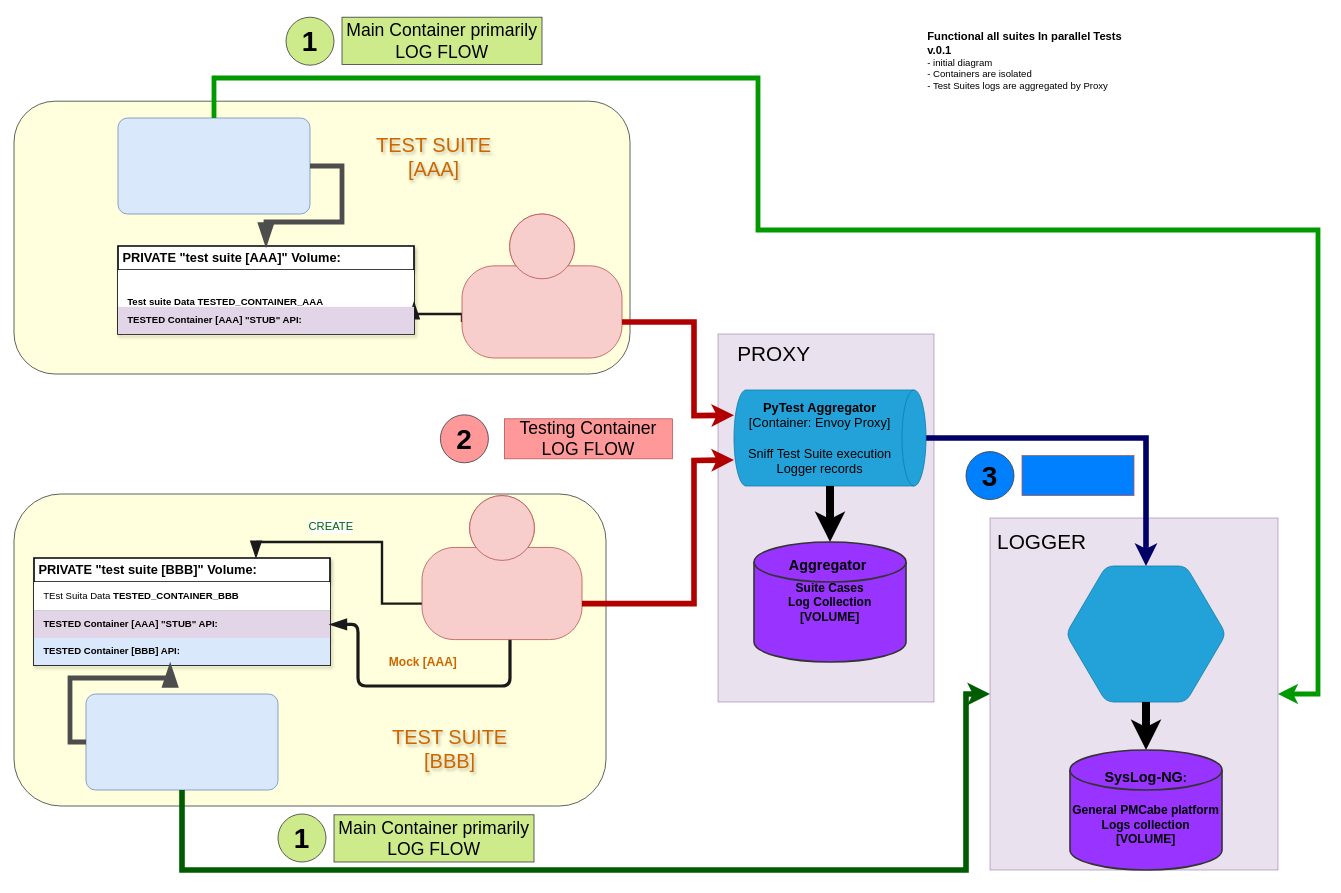
This 1341x893 diagram has some shape labels left out. The centre of each missing label's shape, as x and y in pixels:
Proxied LOG FLOW: the point at 1077,475
SysLog-NG [Container: Syslog] Log aggregator for the entire PMCCabe platform: the point at 1145,633
TESTED Container [AAA] [Container: ]: the point at 213,165
TESTED Container [BBB] [: ] Employs container [AAA] through its API: the point at 181,741
TESTING Container [AAA] []: the point at 541,285
TESTING Container [BBB] []: the point at 501,567
